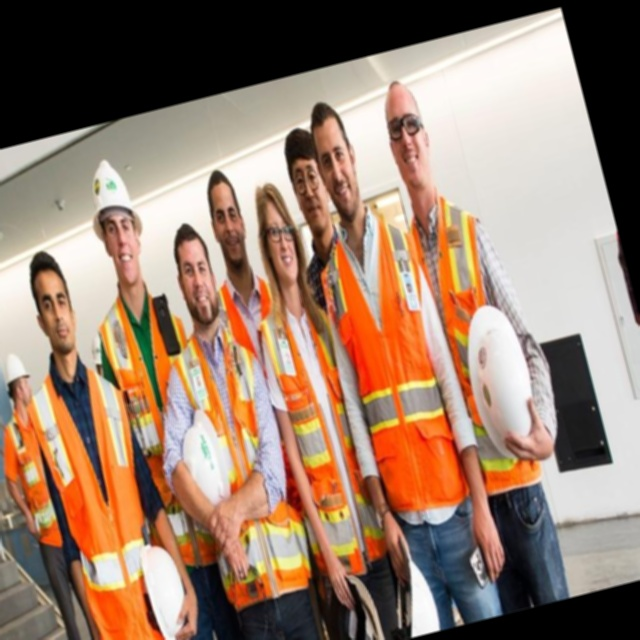Con_Casco: (80, 155, 158, 292)
Con_Chaleco: (311, 214, 468, 514), (396, 195, 547, 496), (26, 352, 181, 640), (164, 322, 310, 604), (246, 291, 388, 577)
Sin_Casco_Mascarrilla: (373, 73, 445, 205), (302, 98, 369, 226), (23, 248, 84, 359), (199, 167, 254, 269)
